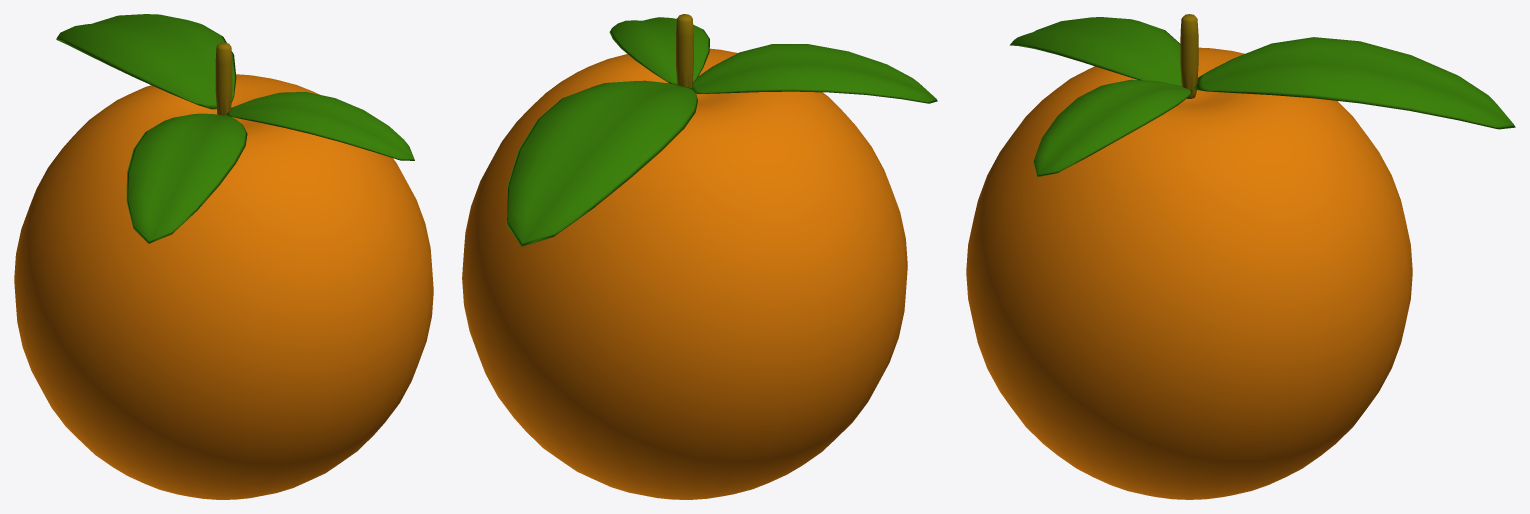
The model's file is Orange.fbx.
3 views of the same model, side by side, from view 1: azimuth 30°, elevation 25°; view 2: azimuth 150°, elevation 25°; view 3: azimuth 270°, elevation 25° (orthographic). The views are drawn at different scales.
Visible parts, largest first — view 1: Orange; view 2: Orange; view 3: Orange.
Boxes of the visible parts, box(x1,y1,x2,y2) form: Orange: box(14, 14, 433, 499); Orange: box(462, 14, 937, 499); Orange: box(966, 14, 1515, 499).
Size of the model in its own units: 193 by 221 by 237.
